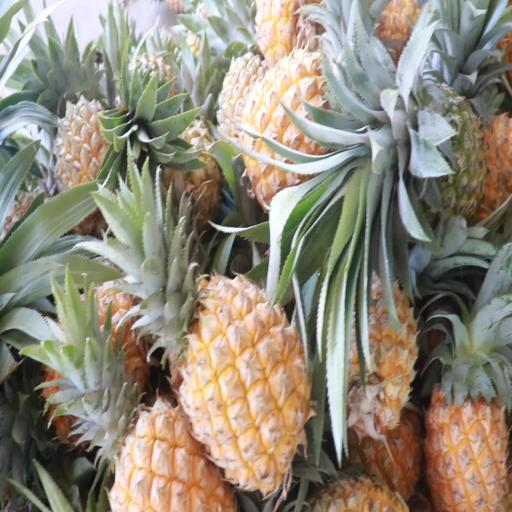Pineapple - v8 v1: (174, 268, 326, 482), (244, 53, 385, 212), (422, 295, 512, 512)
